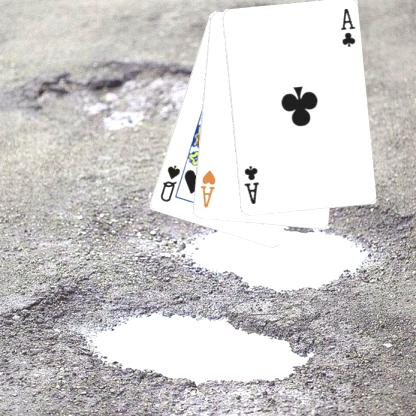AC: (339, 6, 358, 49), (243, 164, 261, 206)
AH: (199, 168, 218, 209)
QS: (159, 162, 183, 204)
